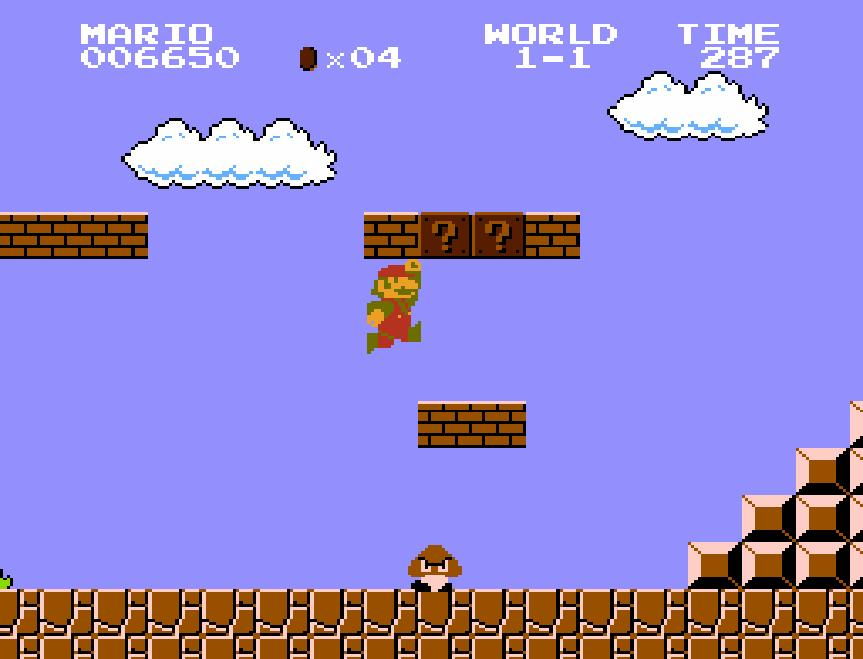big_mario: (366, 257, 424, 355)
